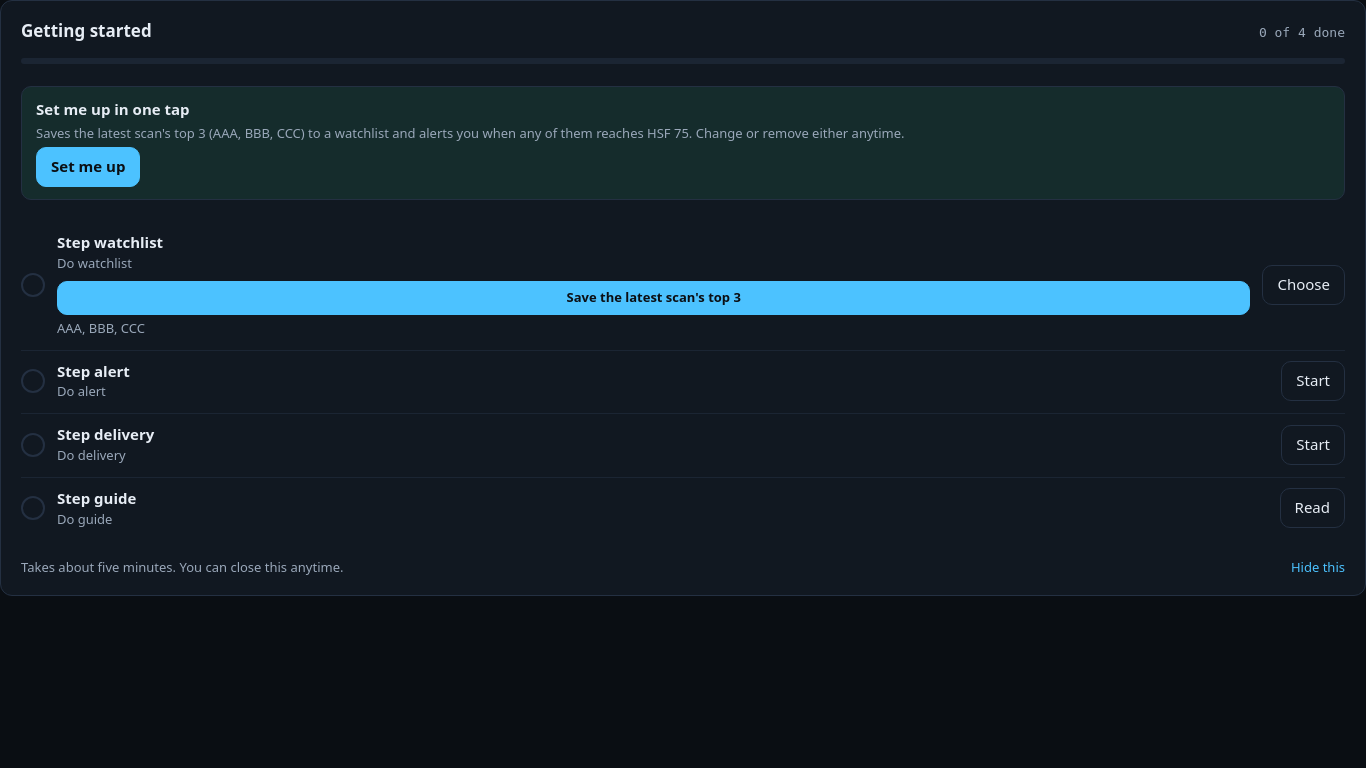
Test case: Getting started › sets a brand-new account up in one tap: top setups watchlist plus a score alert
Click the button "Set me up" at (88, 167), box left=36, top=147, right=140, bottom=187
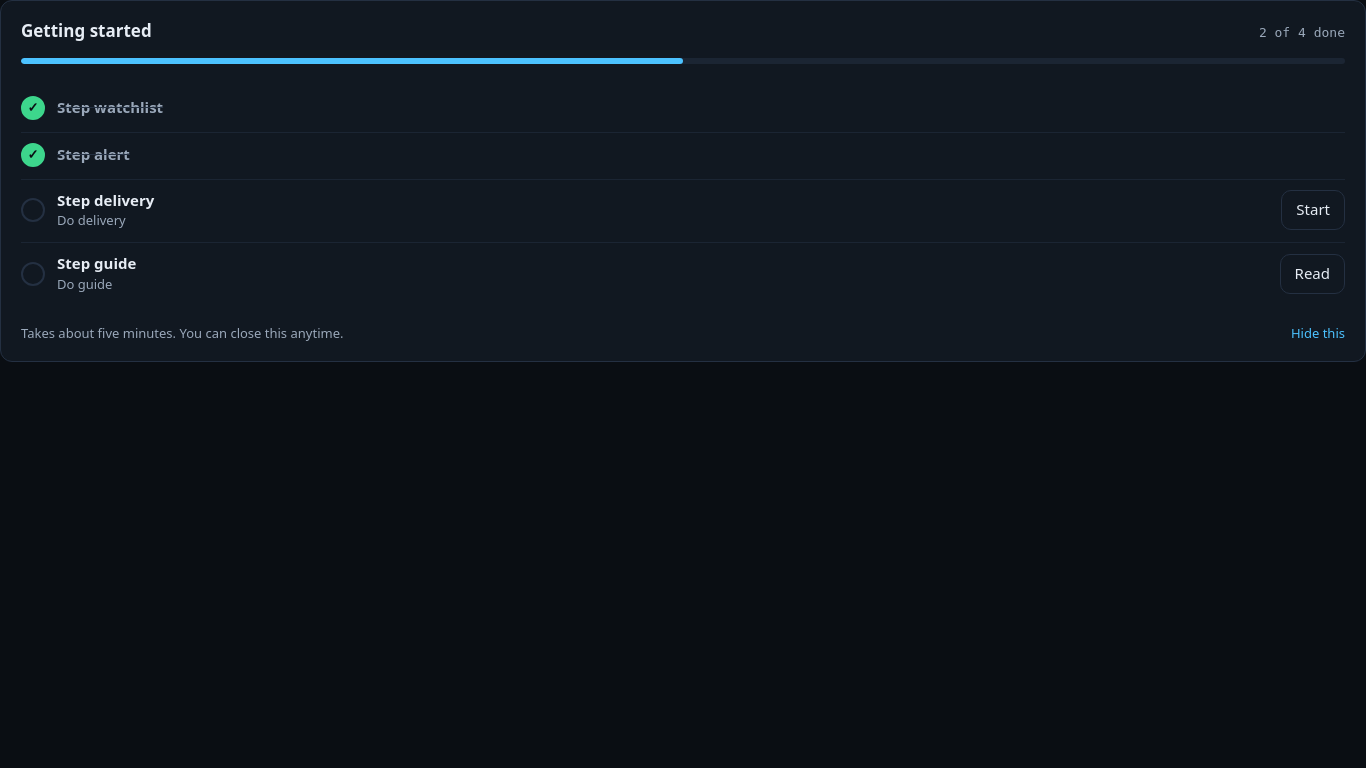
Check: the text "2 of 4 done" is shown, box left=1259, top=25, right=1345, bottom=40
Check: the text "Set me up" is gone
